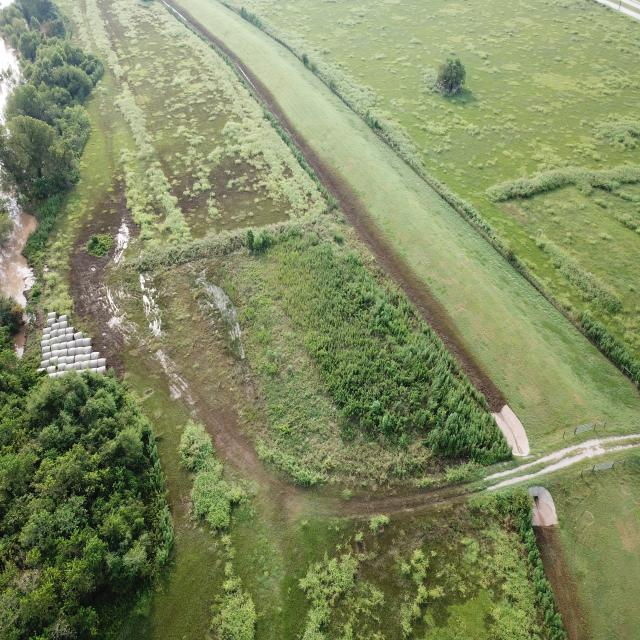fire: (0, 199, 36, 307)
